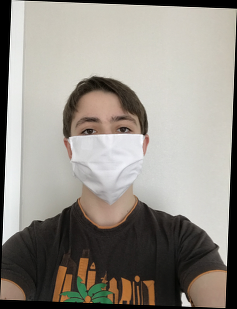with_mask: (66, 107, 146, 206)
